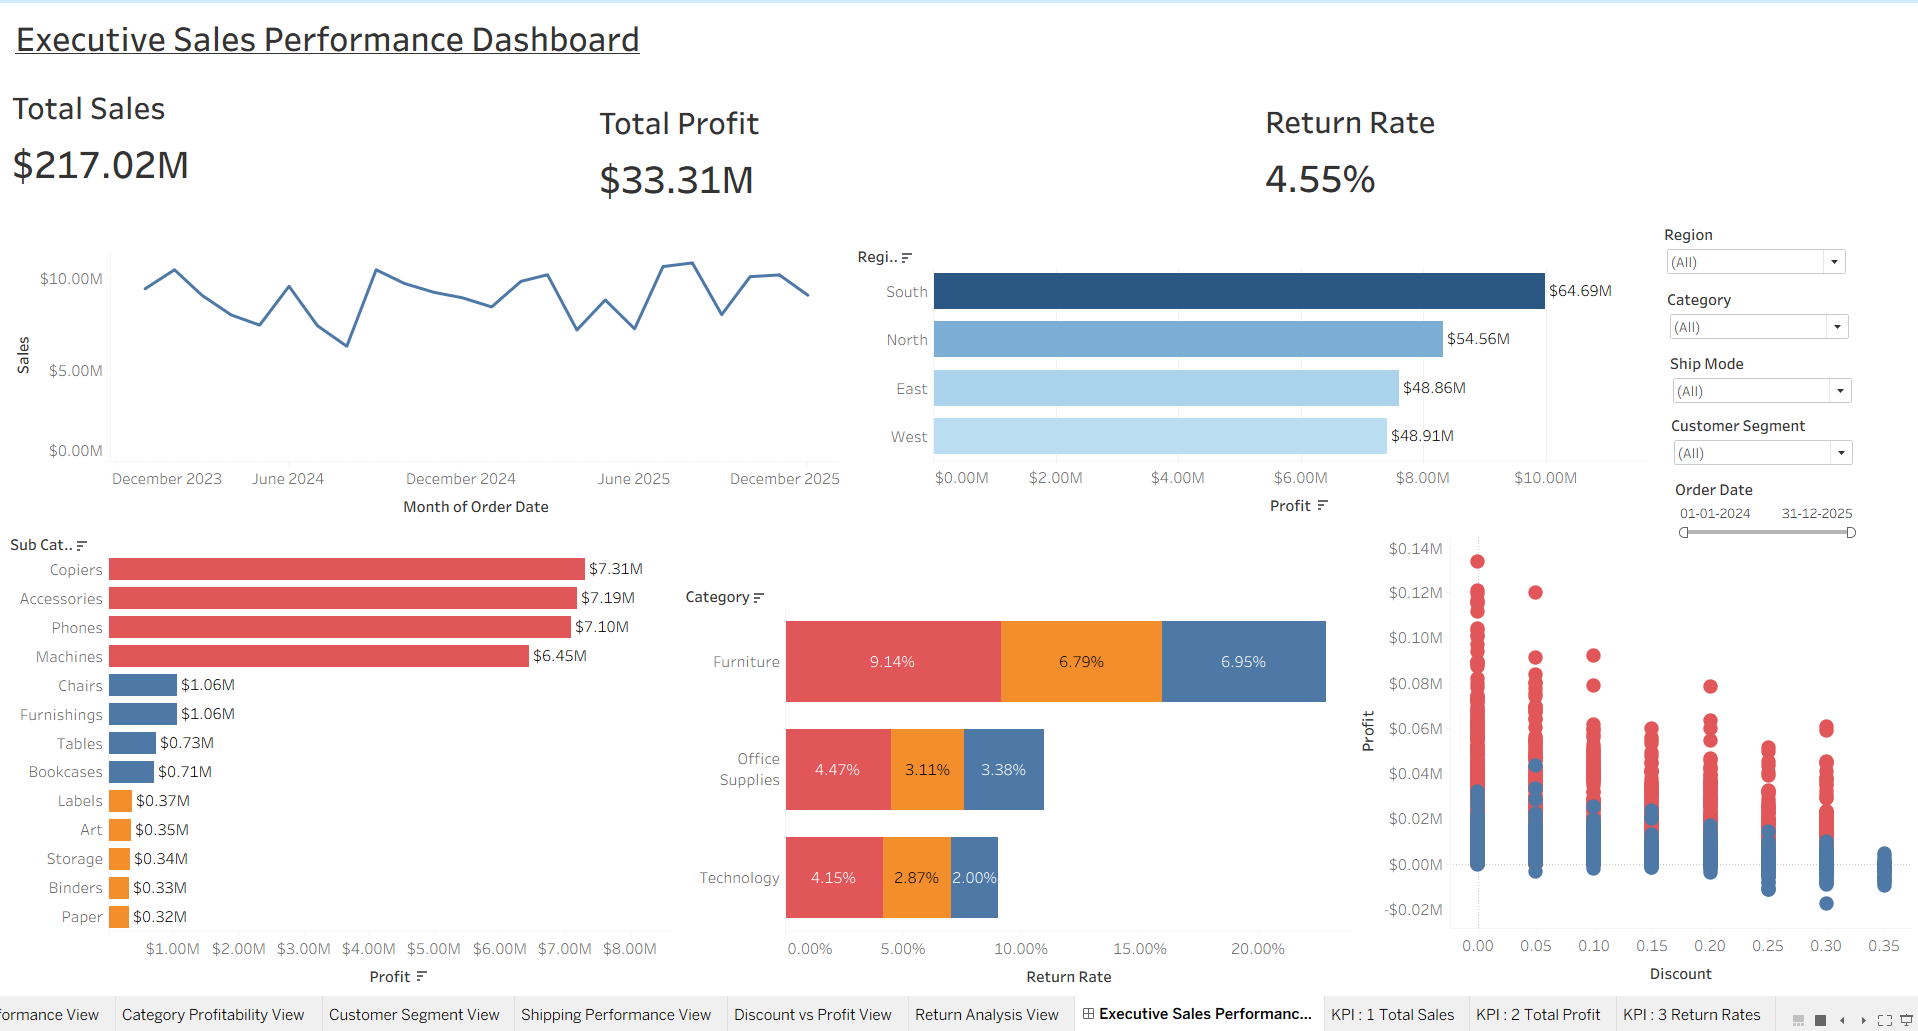

The dashboard page shown, as its layout file describes it:
{"tool":"tableau","page":{"name":"Executive Sales Performance Dashboard","canvas":[1000,1000],"units":"permille","ordinal":0},"visuals":[{"type":"title","box":[4.8,10,990.4,66.2]},{"type":"worksheet","title":"KPI : 1 Total Sales","mark":"Automatic","box":[4.2,79.9,289.3,148.6]},{"type":"worksheet","title":"KPI : 3 Return Rates","mark":"Automatic","box":[657,93.6,333.3,142.3]},{"type":"worksheet","title":"KPI : 2 Total Profit","mark":"Automatic","box":[309.8,94.9,332.7,144.8]},{"type":"filter","title":"Sales Trend View","param":"[federated.0rwq6fc1utdq9s1gsbs8d0cqqr26].[none:region:nk]","box":[866.8,222.2,96.4,66.2]},{"type":"worksheet","title":"Regional Performance View","mark":"Automatic","rows":["region"],"cols":["profit"],"box":[444.2,245.9,414.1,278.4]},{"type":"worksheet","title":"Sales Trend View","mark":"Automatic","rows":["sales"],"cols":["order_date"],"box":[2.4,249.7,435.8,274.7]},{"type":"filter","title":"Sales Trend View","param":"[federated.0rwq6fc1utdq9s1gsbs8d0cqqr26].[none:category:nk]","box":[868,288.4,96.4,63.7]},{"type":"filter","title":"Sales Trend View","param":"[federated.0rwq6fc1utdq9s1gsbs8d0cqqr26].[none:ship_mode:nk]","box":[869.8,352.1,96.4,59.9]},{"type":"filter","title":"Sales Trend View","param":"[federated.0rwq6fc1utdq9s1gsbs8d0cqqr26].[none:customer_segment:nk]","box":[870.4,414.5,96.4,64.9]},{"type":"filter","title":"Sales Trend View","param":"[federated.0rwq6fc1utdq9s1gsbs8d0cqqr26].[none:order_date:qk]","box":[872.2,479.4,96.4,81.2]},{"type":"worksheet","title":"Category Profitability View","mark":"Automatic","rows":["sub_category"],"cols":["profit"],"box":[4.2,535.6,346,461.9]},{"type":"worksheet","title":"Discount vs Profit View","mark":"Circle","rows":["profit"],"cols":["discount"],"box":[703.1,538.1,292.7,456.9]},{"type":"worksheet","title":"Return Analysis View","mark":"Automatic","rows":["category"],"cols":["return_flag"],"box":[356.8,588,347.8,409.5]}]}

Visuals, with their boxes on the dashboard's canvas, which has no fixed pixel size, in thousandths of its width and height (x1, y1, x2, y2). These are canvas units, not pixel positions in the 1918x1031 screenshot, which may show the page scaled, cropped or inside an application window:
title: region(5, 10, 995, 76)
"KPI : 1 Total Sales" worksheet: region(4, 80, 294, 228)
"KPI : 3 Return Rates" worksheet: region(657, 94, 990, 236)
"KPI : 2 Total Profit" worksheet: region(310, 95, 642, 240)
"Sales Trend View" filter: region(867, 222, 963, 288)
"Regional Performance View" worksheet: region(444, 246, 858, 524)
"Sales Trend View" worksheet: region(2, 250, 438, 524)
"Sales Trend View" filter: region(868, 288, 964, 352)
"Sales Trend View" filter: region(870, 352, 966, 412)
"Sales Trend View" filter: region(870, 414, 967, 479)
"Sales Trend View" filter: region(872, 479, 969, 561)
"Category Profitability View" worksheet: region(4, 536, 350, 998)
"Discount vs Profit View" worksheet (Circle marks): region(703, 538, 996, 995)
"Return Analysis View" worksheet: region(357, 588, 705, 998)
